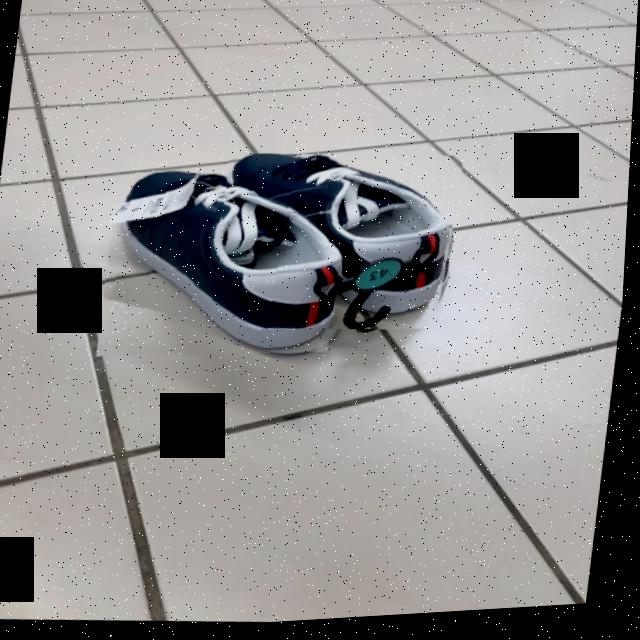shoe: (114, 174, 346, 357), (228, 157, 454, 334)
